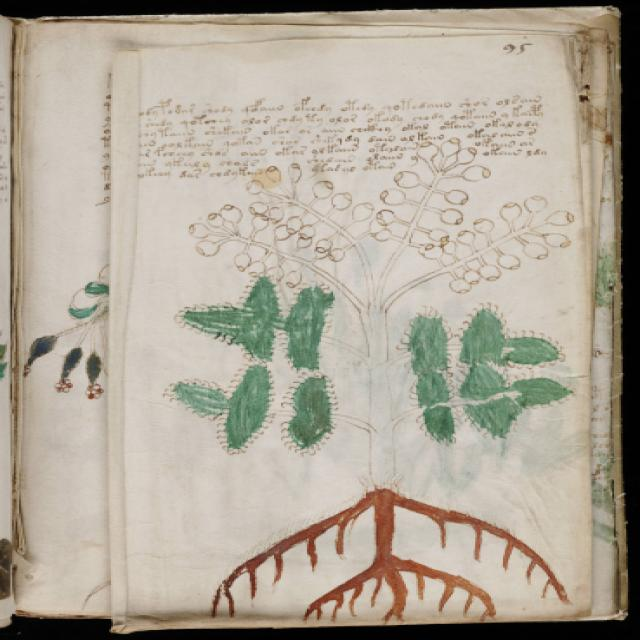plant: (162, 131, 584, 622)
